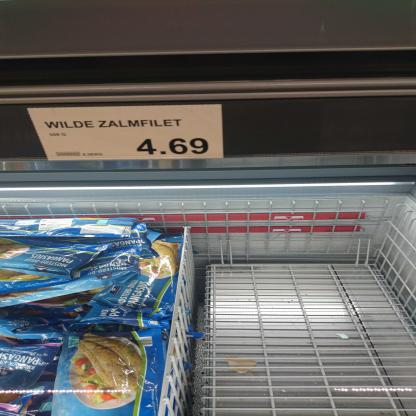prtg: (29, 105, 225, 162)
